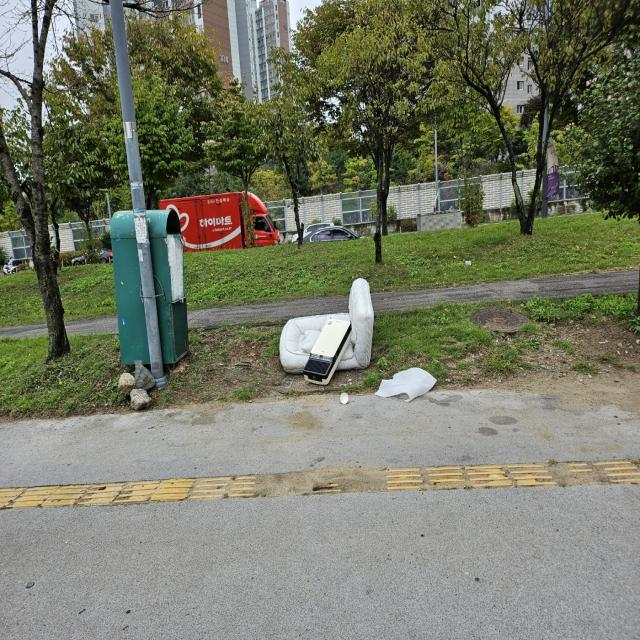Large Waste Items: (285, 280, 374, 372), (305, 319, 352, 384)
